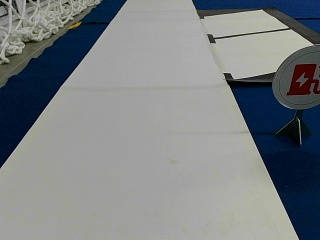battery: (273, 43, 319, 109)
